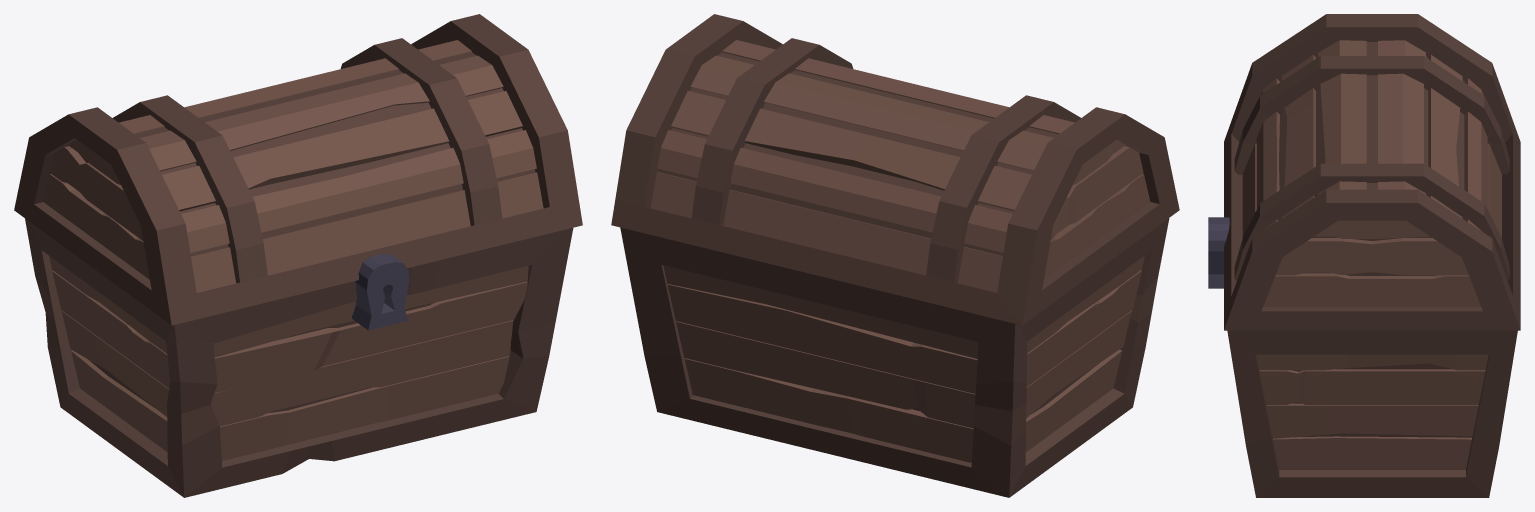
Rendered from mdl_chest1_closed_v1.gltf.
3 views of the same model, side by side, from view 1: azimuth 30°, elevation 25°; view 2: azimuth 150°, elevation 25°; view 3: azimuth 270°, elevation 25° (orthographic). The views are drawn at different scales.
Visible parts, largest first — view 1: ChestClosed; view 2: ChestClosed; view 3: ChestClosed.
Part boxes in pixels (x1,y1,x2,y2): ChestClosed: [14, 14, 582, 497]; ChestClosed: [611, 14, 1179, 497]; ChestClosed: [1208, 14, 1520, 497].
Size of the model in its own units: 2.42 by 1.84 by 1.69.
